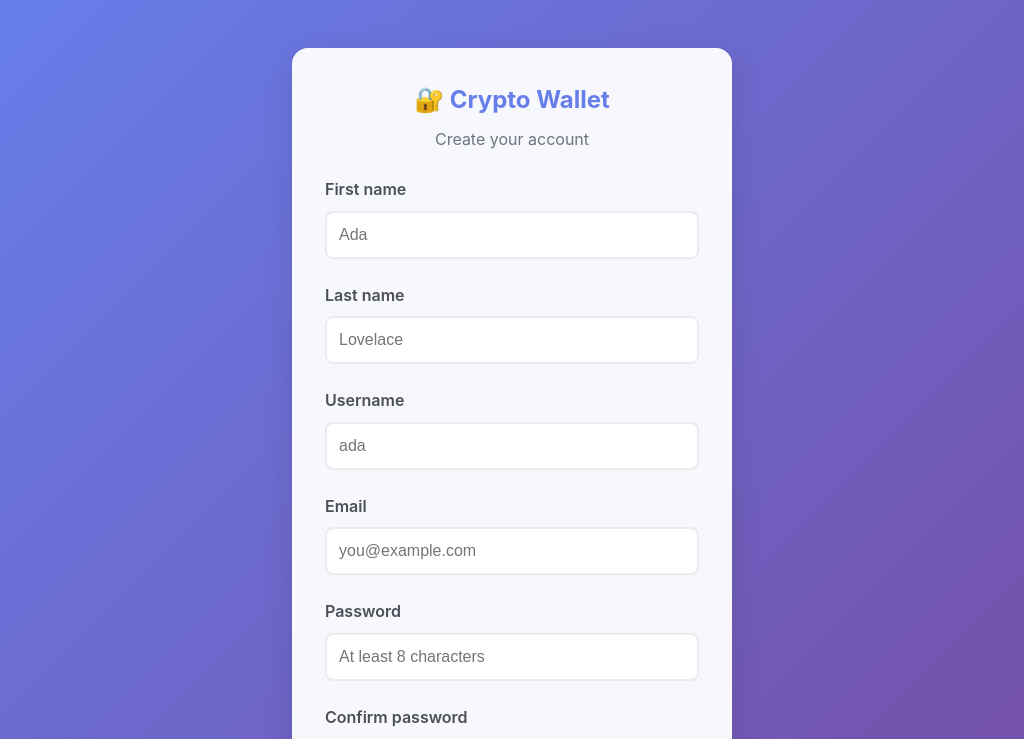
Test: SignUp page › mismatched confirm password shows the inline error
The width and height of the screenshot is (1024, 739).
Step 1. Type "password123" into the password field labelled "Password" → (512, 657), box [325, 633, 699, 681]
(page scrolled)
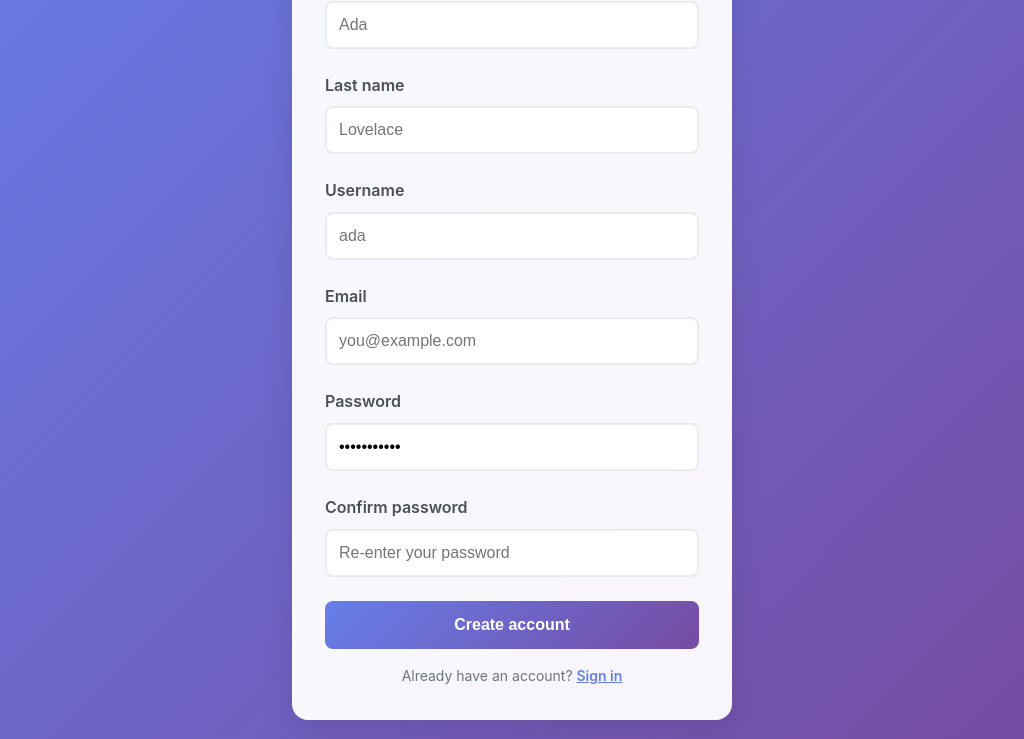
Step 2. Type "different1" into the password field labelled "Confirm password" → (512, 552), box [325, 528, 699, 576]
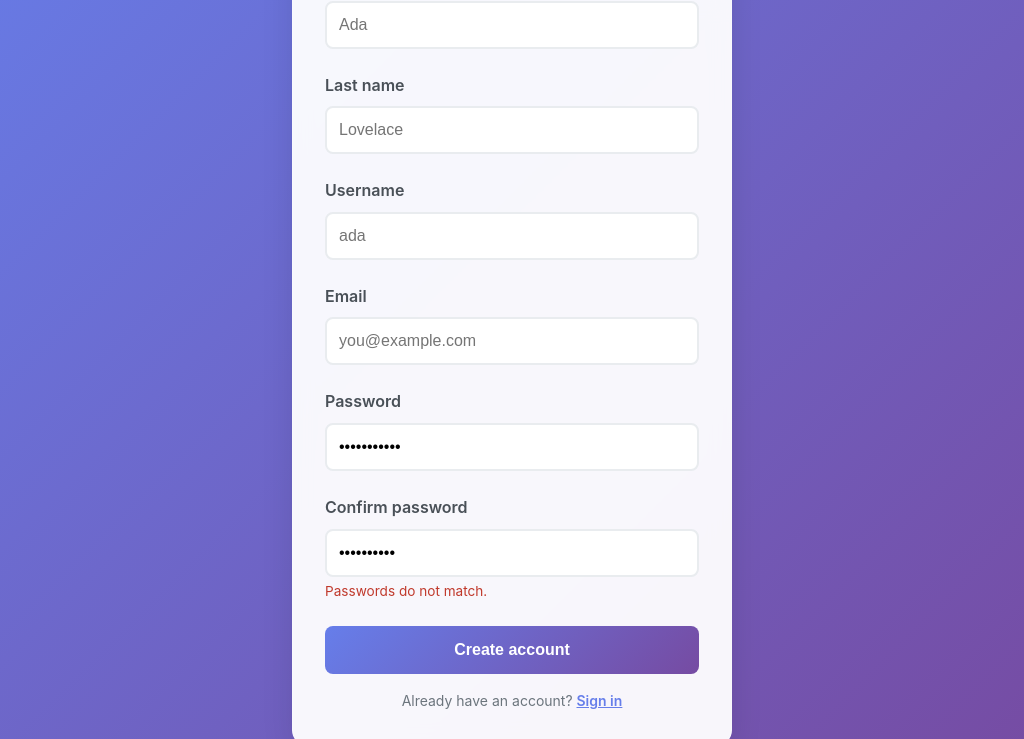
Now the text "Passwords do not match." is shown, box [325, 582, 487, 598]
